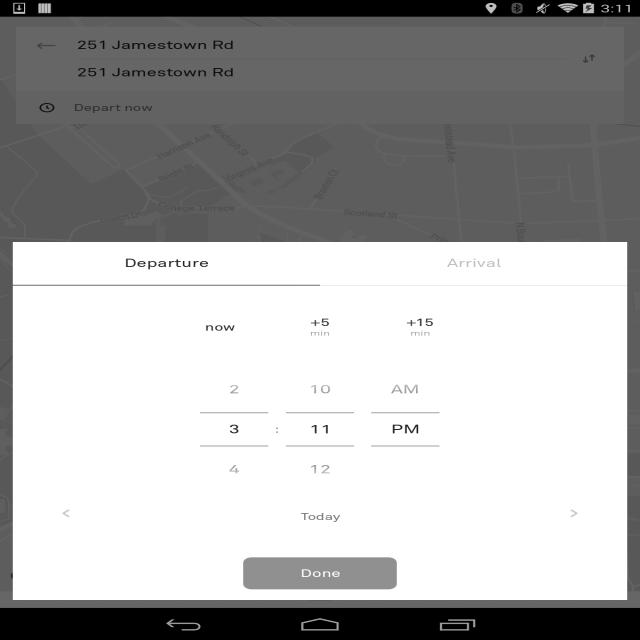Button: (371, 369, 440, 414), (200, 369, 268, 414), (286, 369, 354, 414), (200, 446, 268, 490), (286, 446, 354, 490)
EditText: (371, 414, 440, 446), (200, 414, 268, 446), (286, 414, 354, 446)
ImageView: (45, 500, 87, 527), (553, 500, 595, 527)
TextView: (13, 242, 320, 285), (320, 242, 627, 285), (88, 511, 552, 522), (243, 558, 397, 590), (185, 306, 254, 349), (406, 316, 434, 328), (310, 316, 330, 328), (410, 328, 431, 338), (310, 328, 330, 338), (274, 424, 280, 435)
